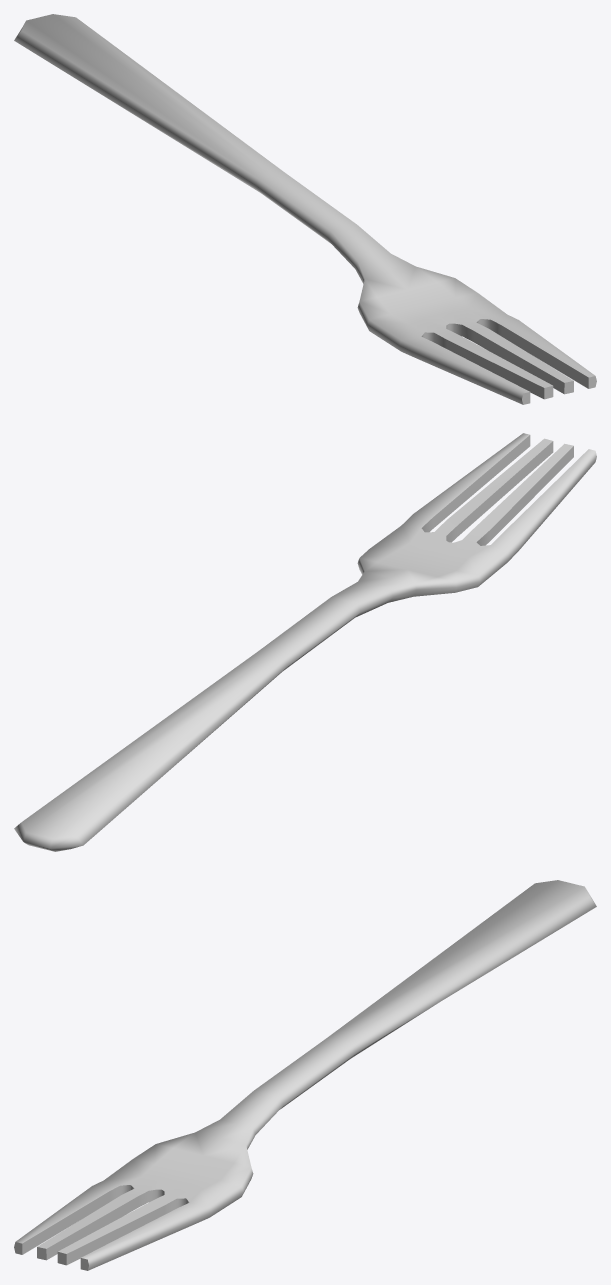
The model's file is DinnerFork_01.fbx.
The picture shows the model from 3 angles, top to bottom: view 1: azimuth 30°, elevation 25°; view 2: azimuth 150°, elevation 25°; view 3: azimuth 330°, elevation 25°; orthographic projection.
Parts seen in each view (by area): view 1: DinnerFork_01; view 2: DinnerFork_01; view 3: DinnerFork_01.
Part boxes in pixels (x1,y1,x2,y2): DinnerFork_01: (14,14,596,404); DinnerFork_01: (14,433,596,851); DinnerFork_01: (14,880,596,1270).
Size of the model in its own units: 0.0223 by 0.00612 by 0.1784.
